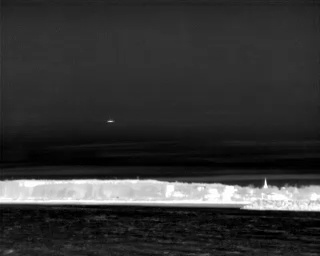BIRD: (105, 117, 116, 126)
